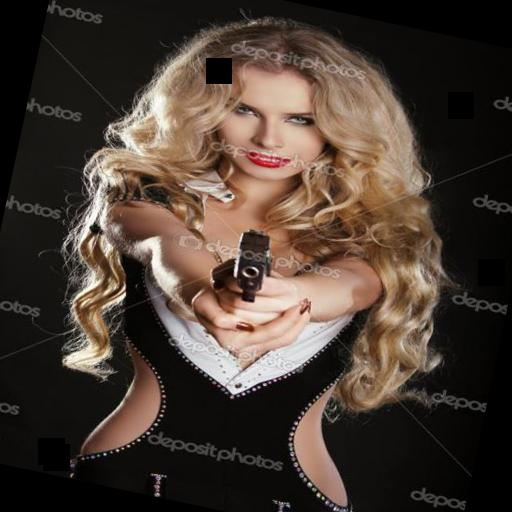Handgun: (208, 213, 289, 314)
